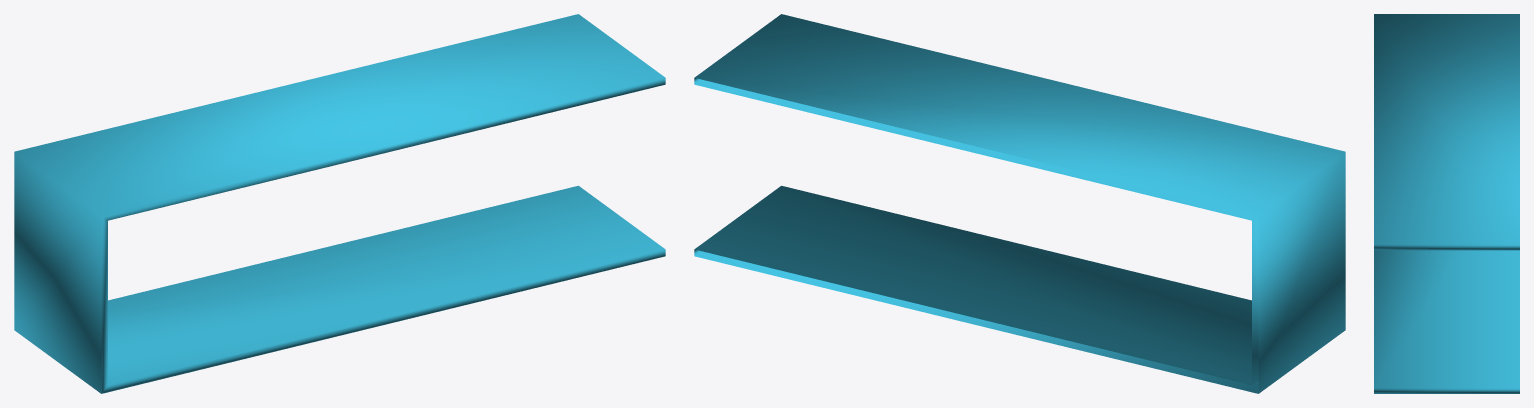
Rendered from glass1.fbx.
3 views of the same model, side by side, from view 1: azimuth 30°, elevation 25°; view 2: azimuth 150°, elevation 25°; view 3: azimuth 270°, elevation 25° (orthographic). The views are drawn at different scales.
Parts seen in each view (by area): view 1: Plane_002; view 2: Plane_002; view 3: Plane_002.
Boxes of the visible parts, x1,y1,x2,y2 form: Plane_002: [14, 14, 665, 393]; Plane_002: [694, 14, 1345, 393]; Plane_002: [1374, 14, 1519, 393].
Bounding box in the file's own units: 17.2 × 5.2 × 4.6.
Materials: 1 (1 with a texture image).
